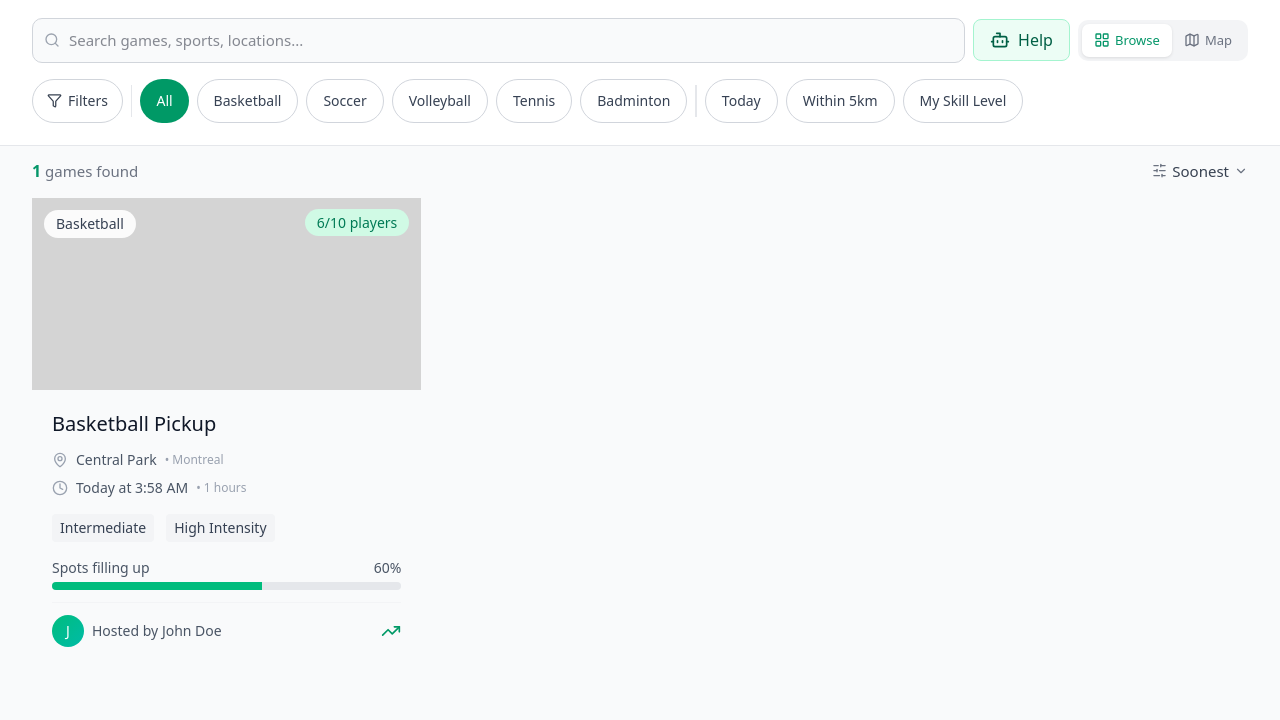
Scenario: GameDiscovery Component › Filter Application › should apply filters when search button is clicked
The width and height of the screenshot is (1280, 720).
Click the button "Filters": x=77, y=100 [32,78,123,122]
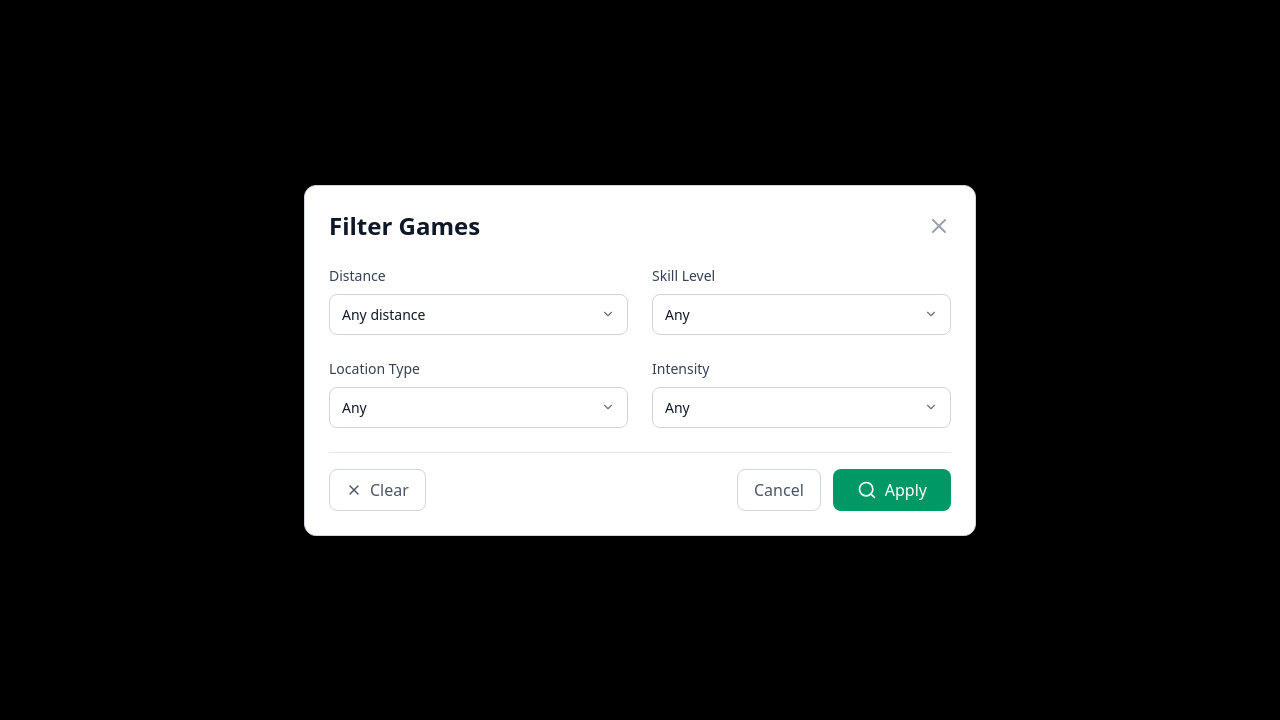
Check: the text "Distance" is shown, box [329,266,386,284]
Click the 1st button "Any": x=677, y=314 [652,294,951,334]
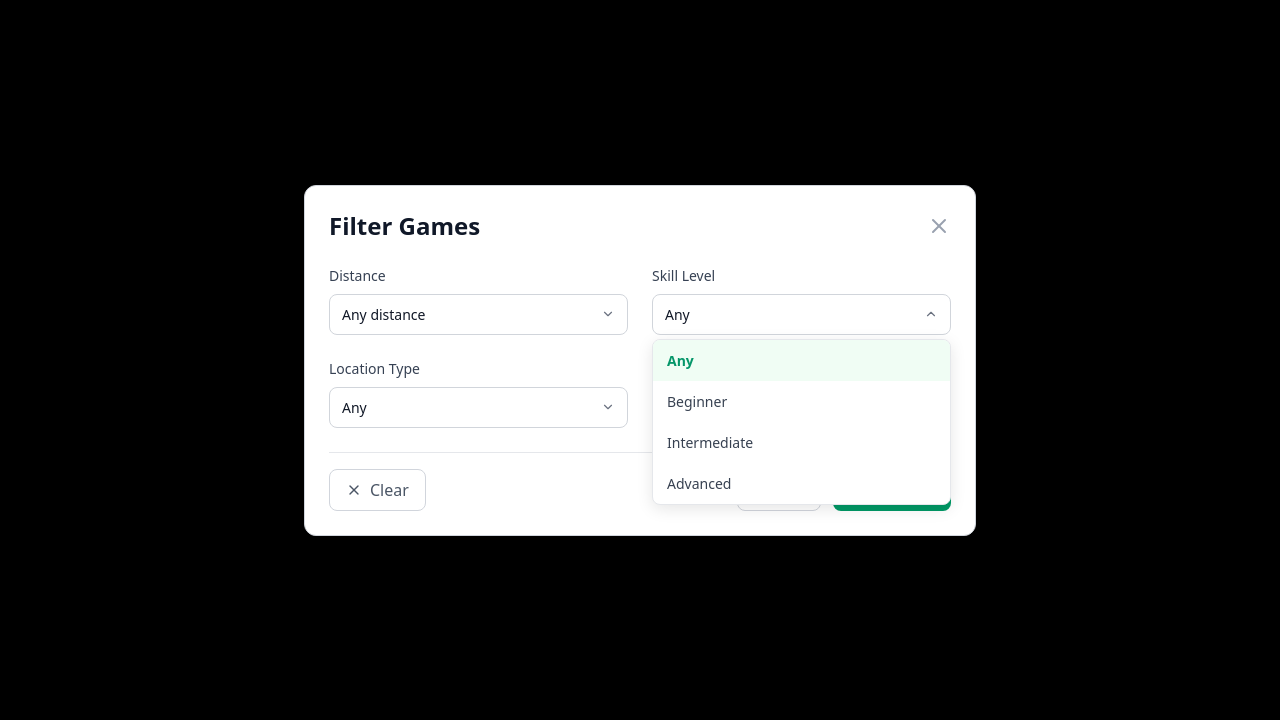
Click the button "Intermediate": x=710, y=442 [653,422,950,462]
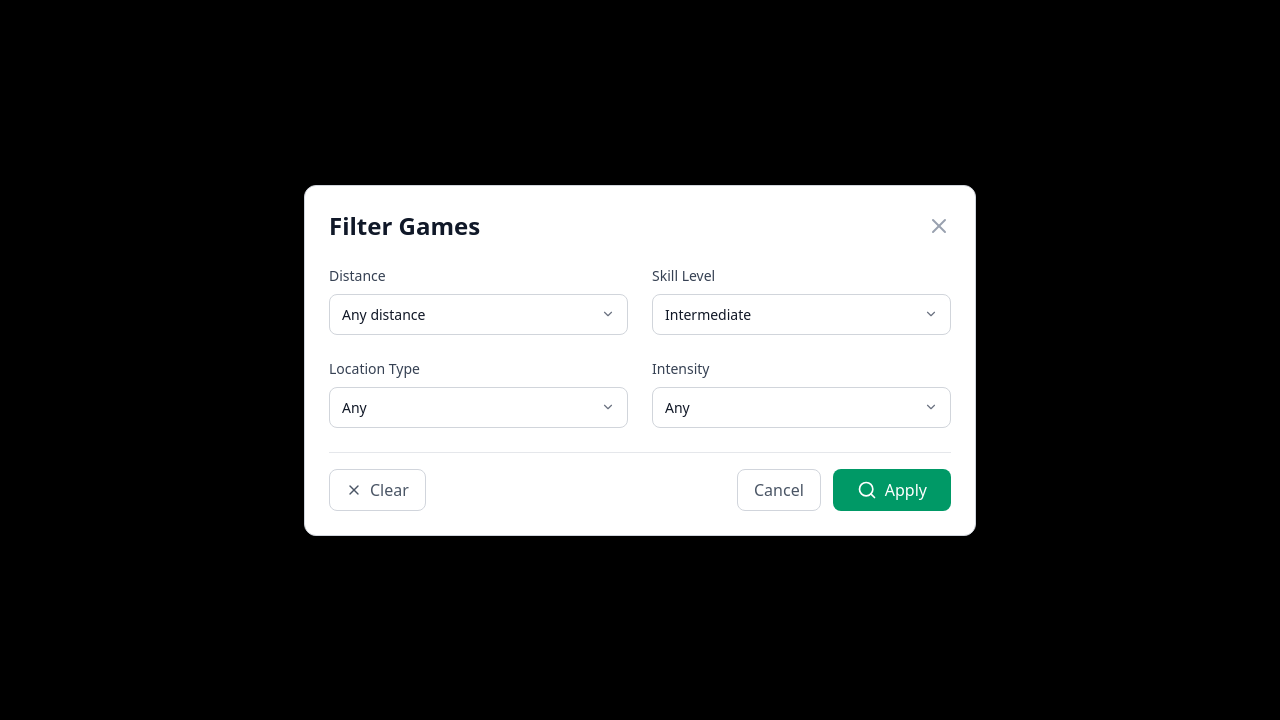
Click the button "Apply": x=892, y=490 [833,468,951,510]
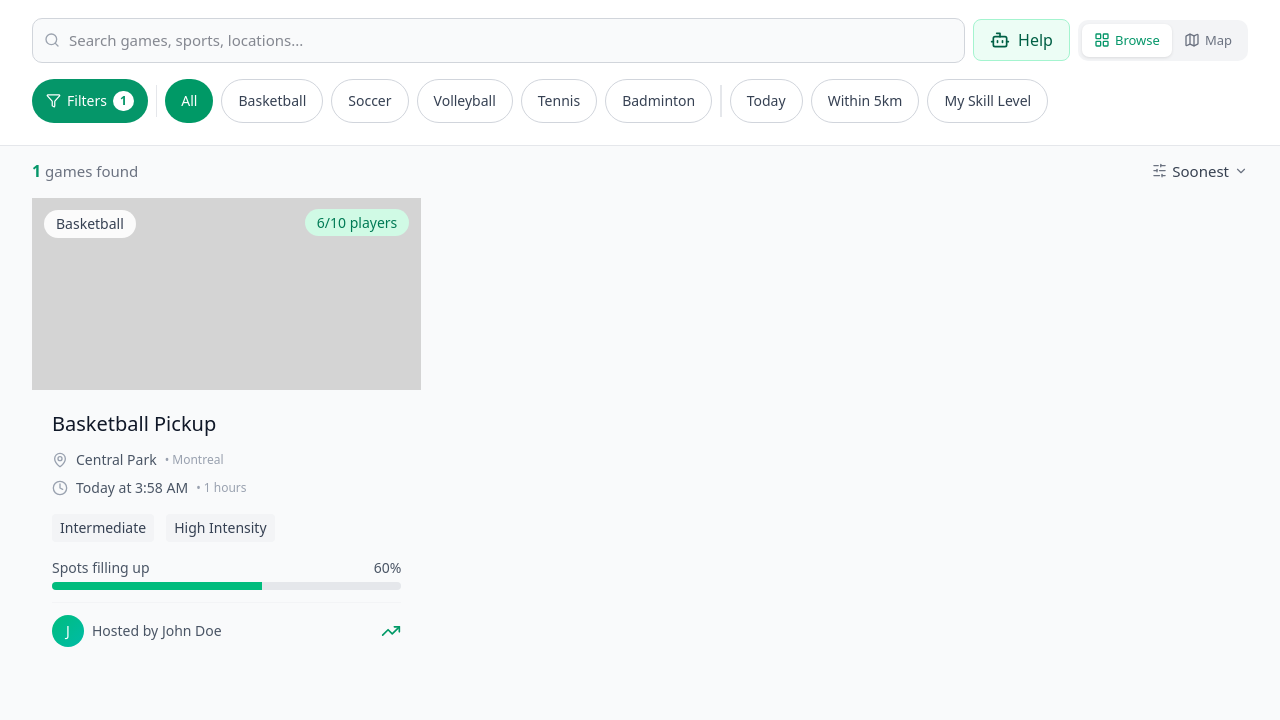
Check: the text "Distance" is gone
